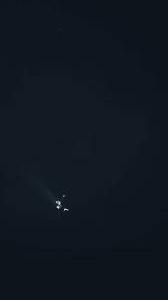Plane: (37, 178, 81, 226)
